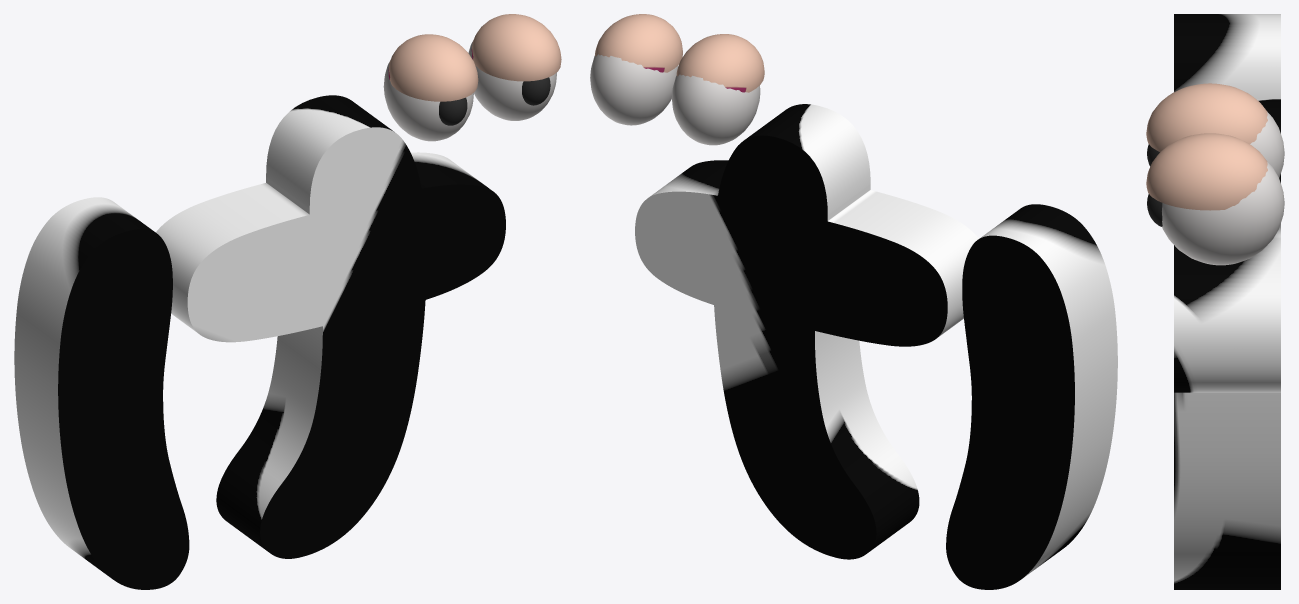
The model's file is title3.gltf.
The picture shows the model from 3 angles, left to right: view 1: azimuth 30°, elevation 25°; view 2: azimuth 150°, elevation 25°; view 3: azimuth 270°, elevation 25°; orthographic projection. The views are drawn at different scales.
Parts seen in each view (by area): view 1: ge.004; view 2: ge.004; view 3: ge.004.
Boxes of the visible parts, x1,y1,x2,y2 form: ge.004: (14,14,561,589); ge.004: (590,14,1117,589); ge.004: (1146,14,1284,589).
Size of the model in its own units: 0.674 by 0.5947 by 0.1293.
3 materials, 3 textured.
